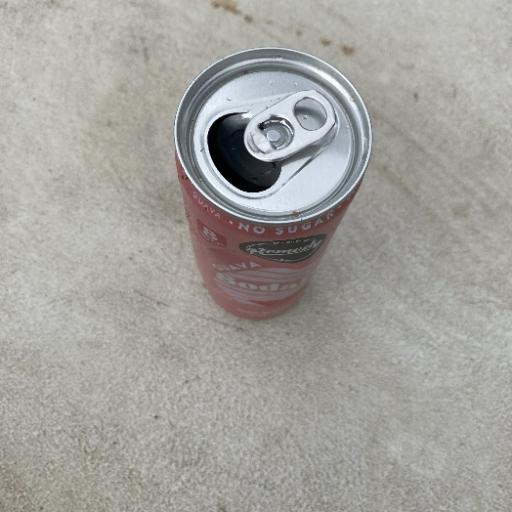Metal: (170, 45, 374, 321)
